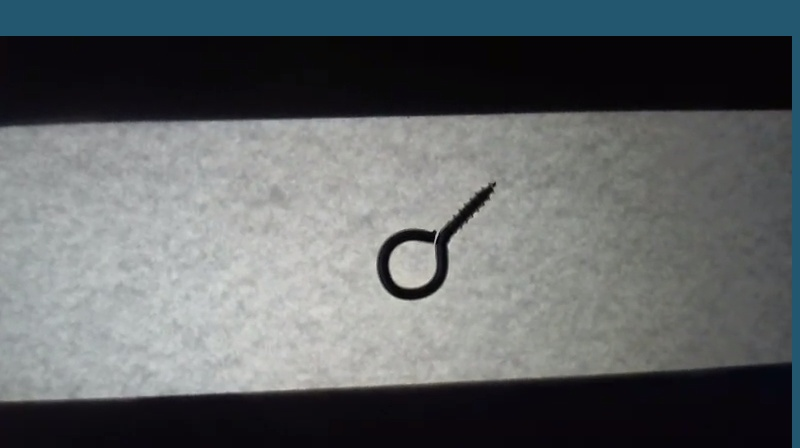O001: (370, 179, 500, 303)
